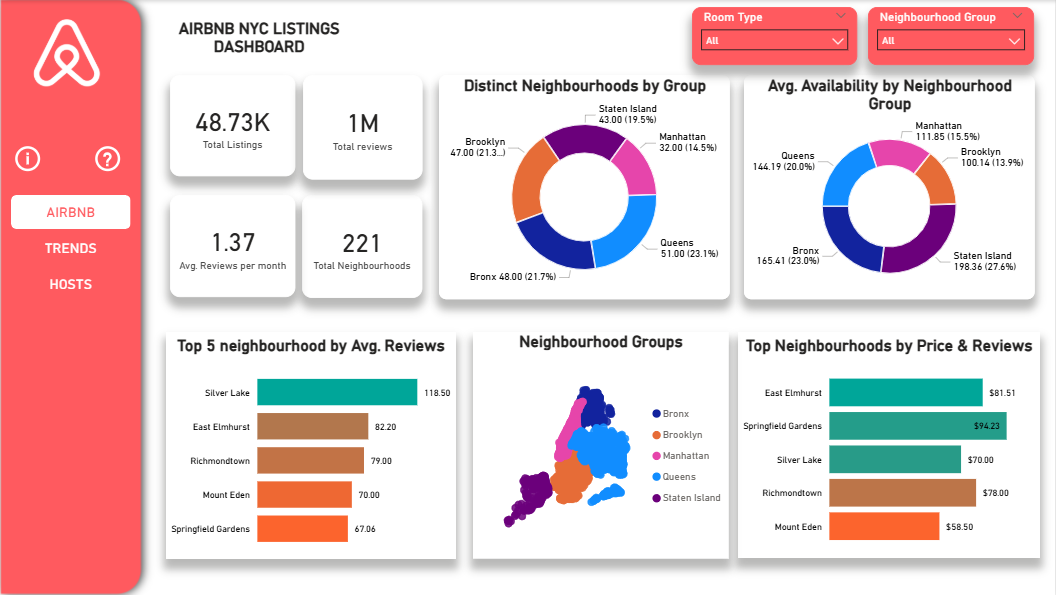

The page's visual inventory and layout, read from the dashboard file:
{"tool":"tableau","page":{"name":"Dashboard 1","canvas":[1200,900],"ordinal":0},"visuals":[{"type":"title","box":[8,8,1184,38]},{"type":"blank","box":[8,46,140,43]},{"type":"blank","box":[148,46,1044,846]},{"type":"worksheet","title":"Avg Price in top 5 neighbourhood in differnt neighbourhood groups","mark":"Automatic","rows":["neighbourhood_group","neighbourhood"],"cols":["price"],"box":[679,47,510,355]},{"type":"worksheet","title":"Top 5 Neighborhoods by Average Review Count","mark":"Automatic","rows":["neighbourhood"],"cols":["number_of_reviews"],"box":[151,53,435,327]},{"type":"worksheet","title":"average of reviews per month","mark":"Square","box":[8,89,140,114]},{"type":"worksheet","title":"total listing count","mark":"Square","box":[8,203,140,88]},{"type":"worksheet","title":"neighbourhood count","mark":"Square","box":[8,291,140,92]},{"type":"worksheet","title":"total reviews","mark":"Square","box":[8,383,140,78]},{"type":"worksheet","title":"Total neighbourhoods by group","mark":"Pie","box":[151,397,291,237]},{"type":"worksheet","title":"Top 5 listings with the Highest Number of Reviews","mark":"Automatic","rows":["id"],"cols":["number_of_reviews"],"box":[859,412,318,232]},{"type":"image","param":"Image/pngkey.com-airbnb-logo-png-606021.png","box":[463,425,336,162]},{"type":"blank","box":[8,461,140,89]},{"type":"filter","title":"Avg Price of listing in Negihbourhood","param":"[federated.1ulnfct1eo8oly12yzef30b2rkl6].[none:neighbourhood_group:nk]","box":[8,550,140,57]},{"type":"filter","title":"Avg Price of listing in Negihbourhood","param":"[federated.1ulnfct1eo8oly12yzef30b2rkl6].[none:room_type:nk]","box":[8,607,140,51]},{"type":"worksheet","title":"Avg Price of listing in Negihbourhood","mark":"Automatic","rows":["room_type"],"cols":["neighbourhood_group"],"box":[459,638,401,240]},{"type":"worksheet","title":"Number of listings in room type","mark":"Automatic","rows":["room_type"],"cols":["id"],"box":[150,647,297,241]},{"type":"worksheet","title":"Top 5 Hosts by Average Reviews Per Month","mark":"Automatic","rows":["host_name"],"cols":["reviews_per_month"],"box":[877,651,313,236]},{"type":"legend","title":"Total neighbourhoods by group","param":"[federated.1ulnfct1eo8oly12yzef30b2rkl6].[none:neighbourhood_group:nk]","box":[8,658,140,136]},{"type":"blank","box":[8,794,140,98]}]}

Visuals, with their boxes on the page's 1200x900 design canvas (x1, y1, x2, y2). These are canvas units, not pixel positions in the 1056x595 screenshot, which may show the page scaled, cropped or inside an application window:
title: region(8, 8, 1192, 46)
blank: region(8, 46, 148, 89)
blank: region(148, 46, 1192, 892)
"Avg Price in top 5 neighbourhood in differnt neighbourhood groups" worksheet: region(679, 47, 1189, 402)
"Top 5 Neighborhoods by Average Review Count" worksheet: region(151, 53, 586, 380)
"average of reviews per month" worksheet (Square marks): region(8, 89, 148, 203)
"total listing count" worksheet (Square marks): region(8, 203, 148, 291)
"neighbourhood count" worksheet (Square marks): region(8, 291, 148, 383)
"total reviews" worksheet (Square marks): region(8, 383, 148, 461)
"Total neighbourhoods by group" worksheet (Pie marks): region(151, 397, 442, 634)
"Top 5 listings with the Highest Number of Reviews" worksheet: region(859, 412, 1177, 644)
image: region(463, 425, 799, 587)
blank: region(8, 461, 148, 550)
"Avg Price of listing in Negihbourhood" filter: region(8, 550, 148, 607)
"Avg Price of listing in Negihbourhood" filter: region(8, 607, 148, 658)
"Avg Price of listing in Negihbourhood" worksheet: region(459, 638, 860, 878)
"Number of listings in room type" worksheet: region(150, 647, 447, 888)
"Top 5 Hosts by Average Reviews Per Month" worksheet: region(877, 651, 1190, 887)
"Total neighbourhoods by group" legend: region(8, 658, 148, 794)
blank: region(8, 794, 148, 892)
